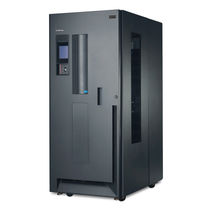ibm-server: (45, 9, 168, 203)
